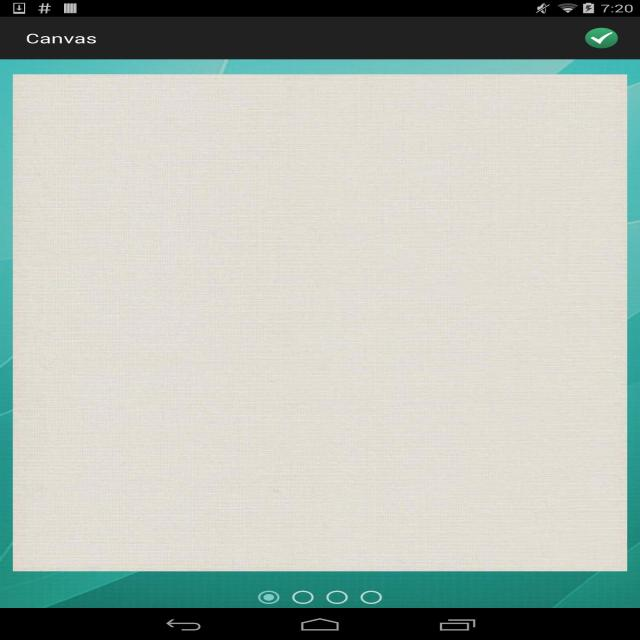heading: (24, 30, 104, 50)
image: (2, 60, 639, 608), (585, 28, 619, 52)
